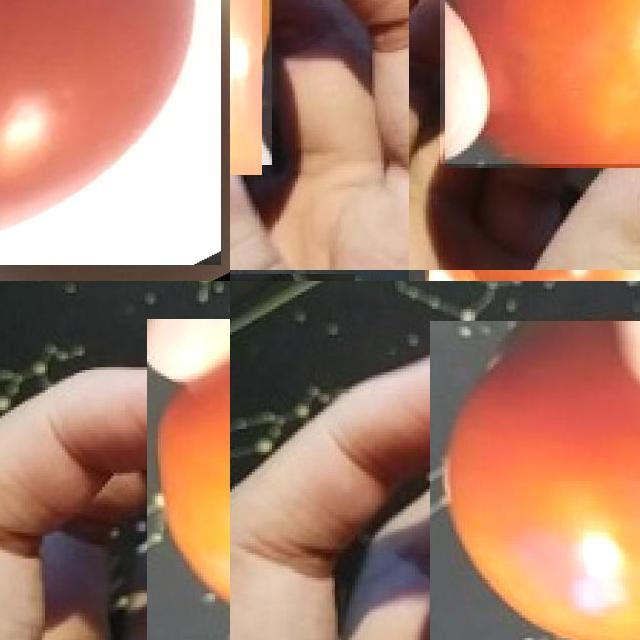0: (0, 0, 221, 265)
Fresh Tomato: (429, 321, 640, 640), (439, 0, 640, 163)
Rotten Tomato: (147, 319, 230, 640)
